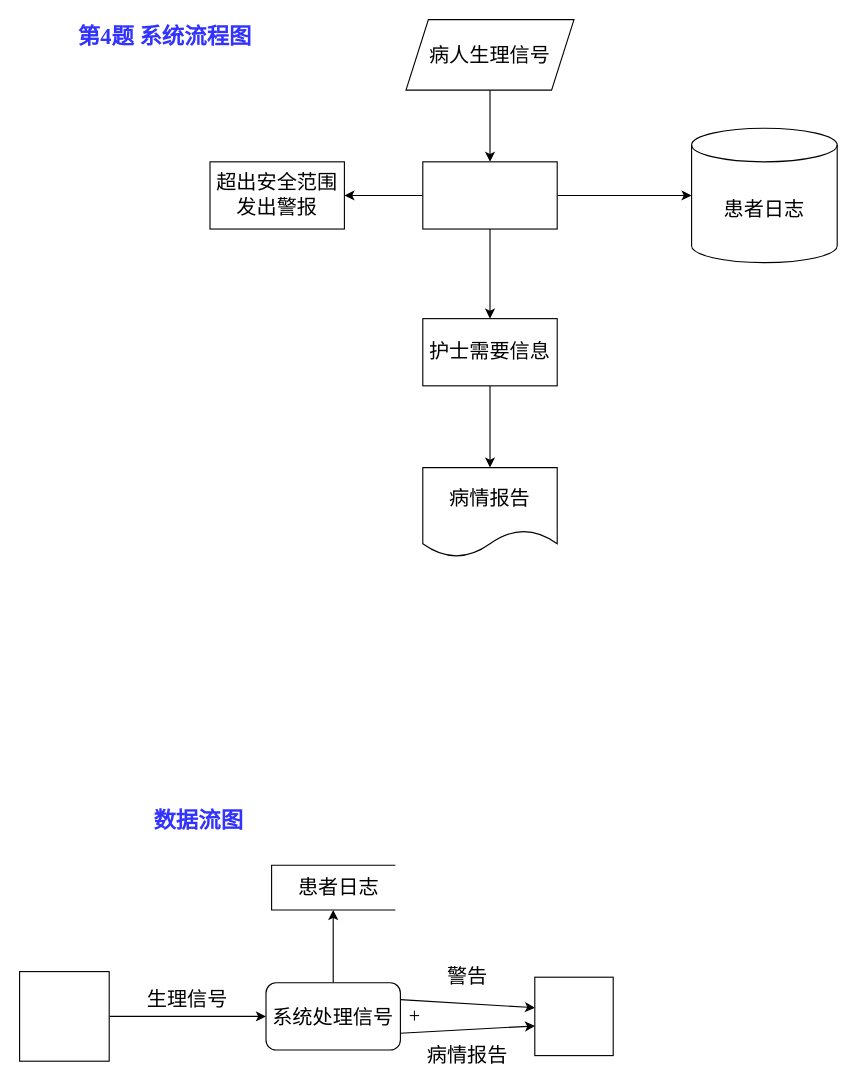
The diagram is 857 pixels wide and 1092 high, and some of its shapes have lost their labels. Each missing label, with the centre of its shape:
定时记录程序: the point at 489,195
护士: the point at 573,1016
病人: the point at 63,1015
